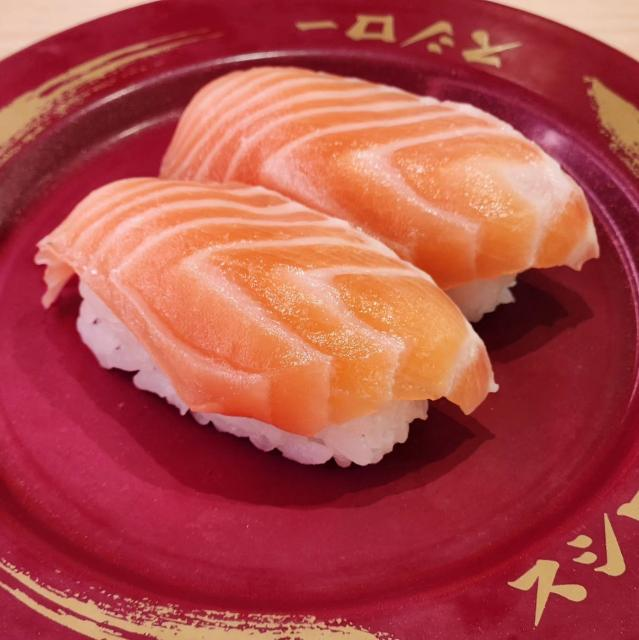janred: (0, 49, 623, 562)
